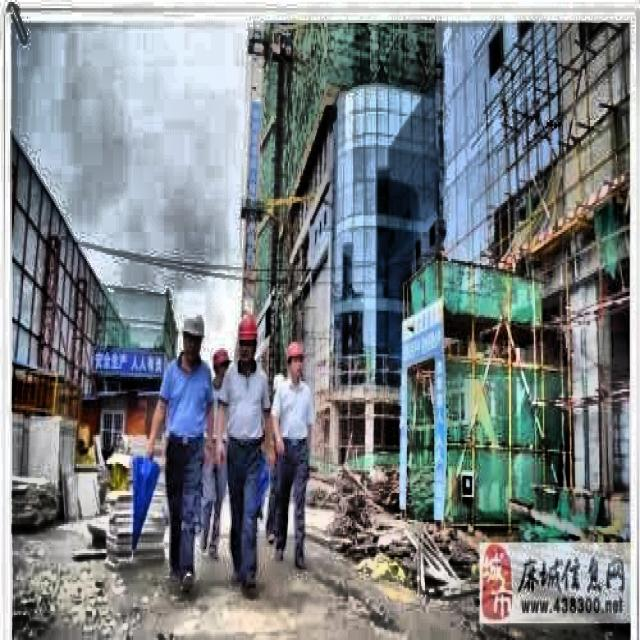helmet: (181, 311, 206, 368), (238, 315, 259, 375), (283, 338, 305, 385), (212, 344, 232, 387)
